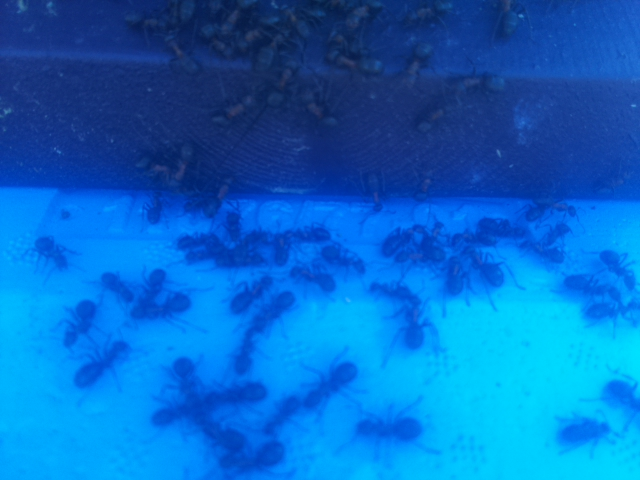ant: (132, 259, 193, 325), (204, 76, 261, 130), (295, 69, 343, 133), (406, 39, 435, 80)
